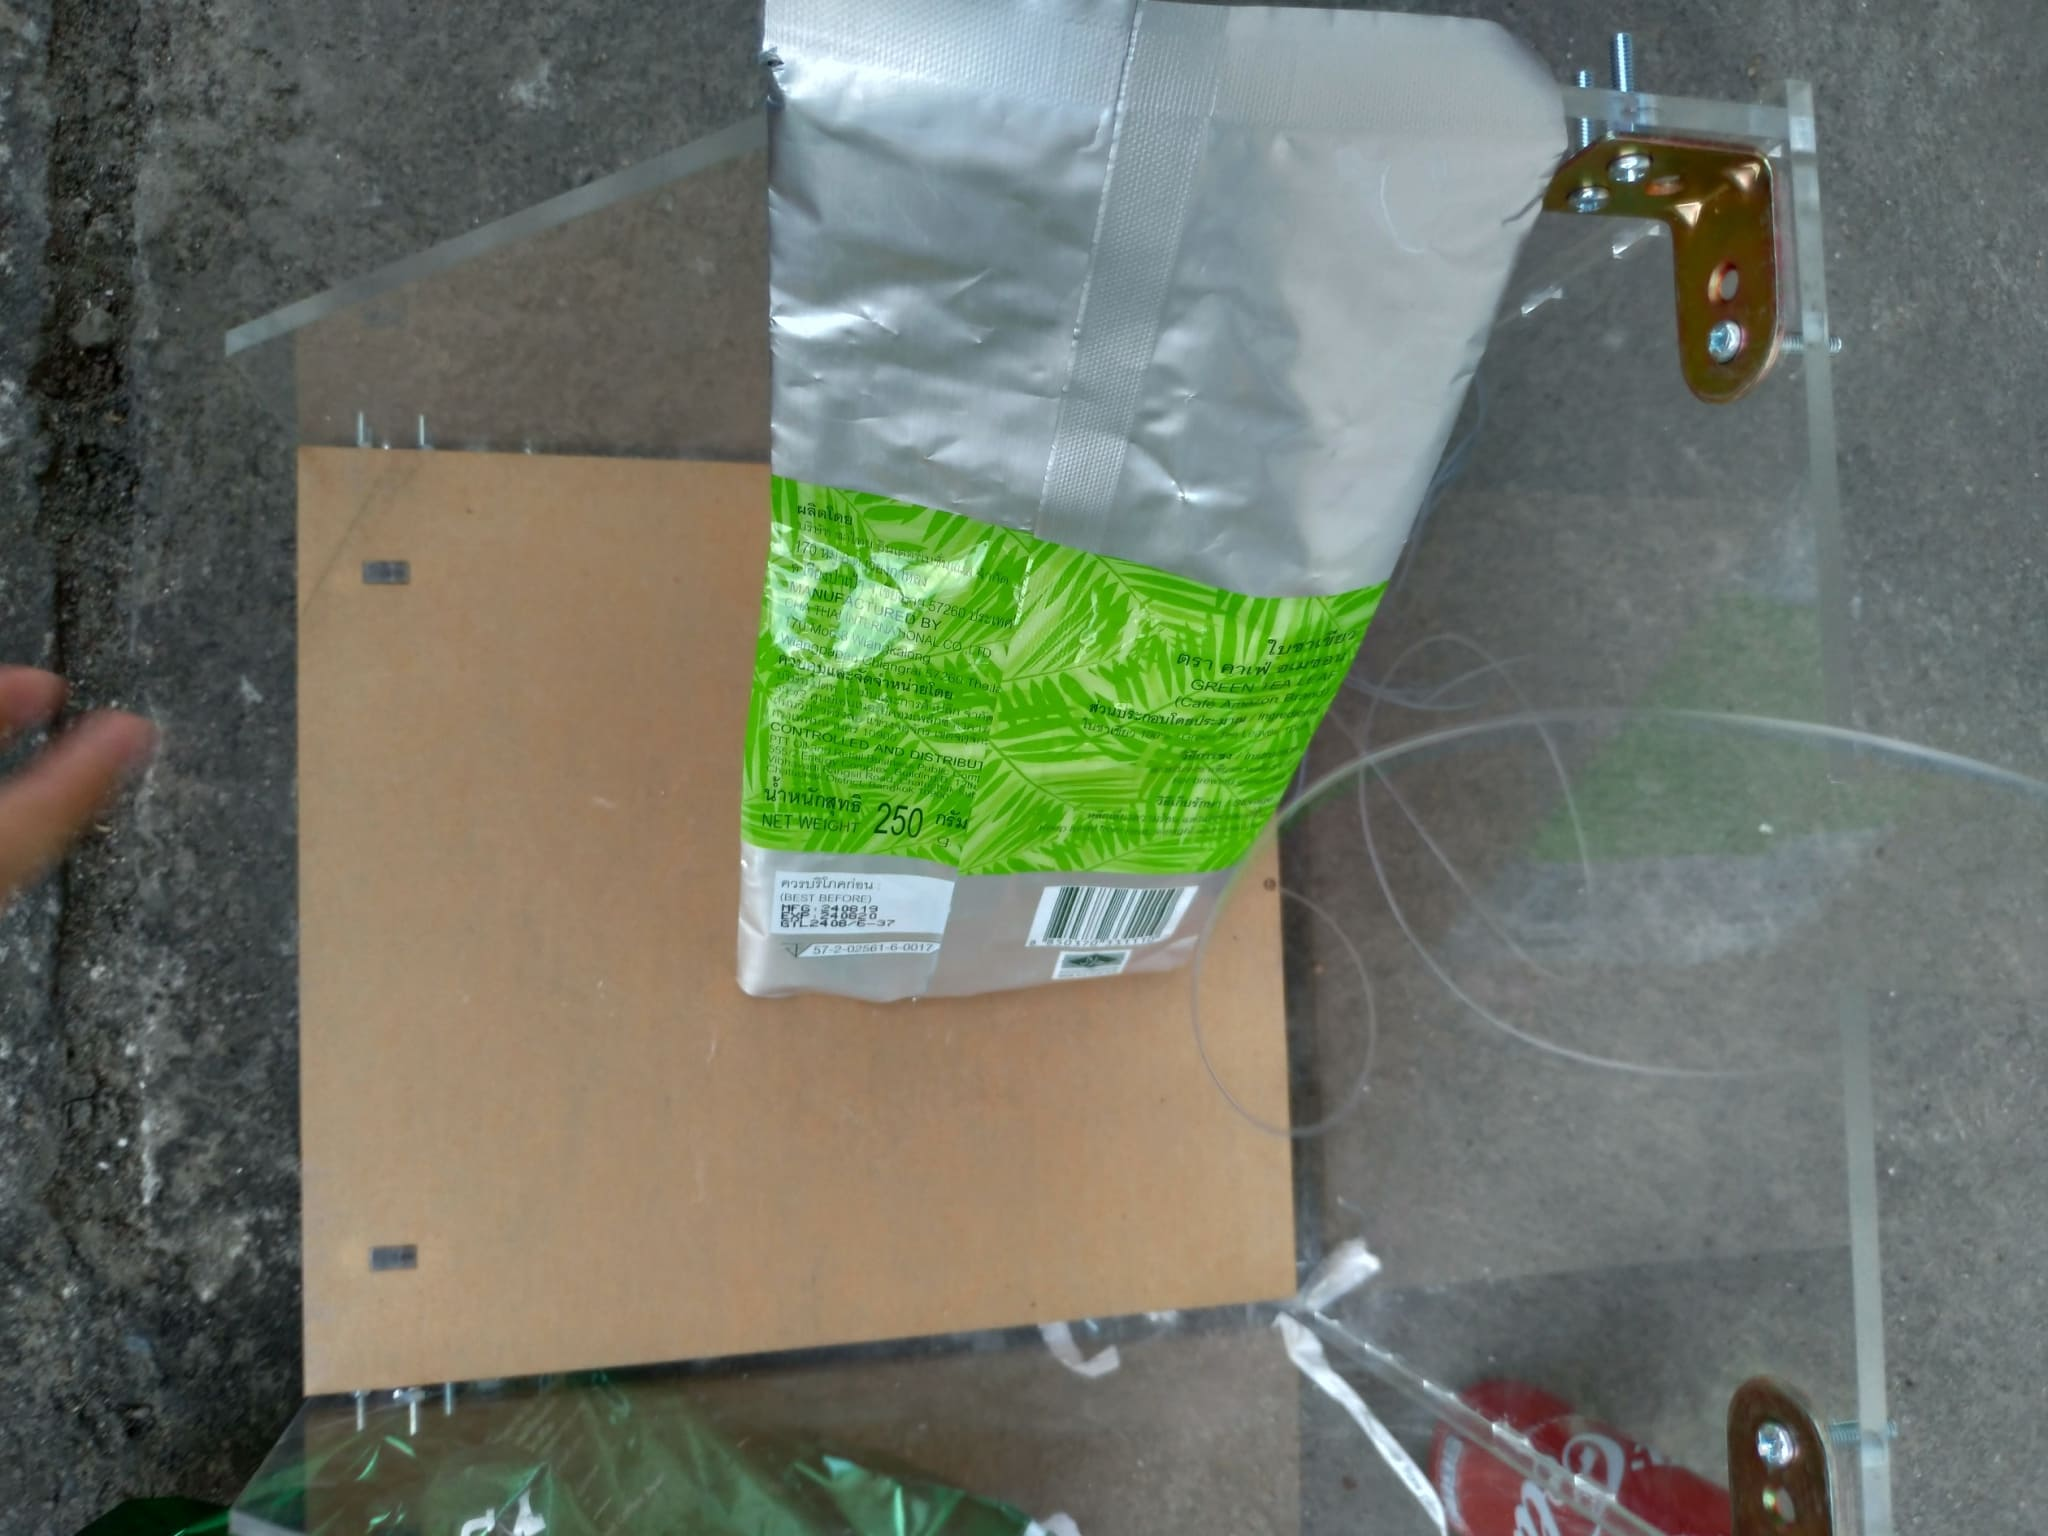AlCan: (1417, 1375, 1743, 1536)
Others: (732, 11, 1558, 1005), (90, 1371, 1018, 1536)
